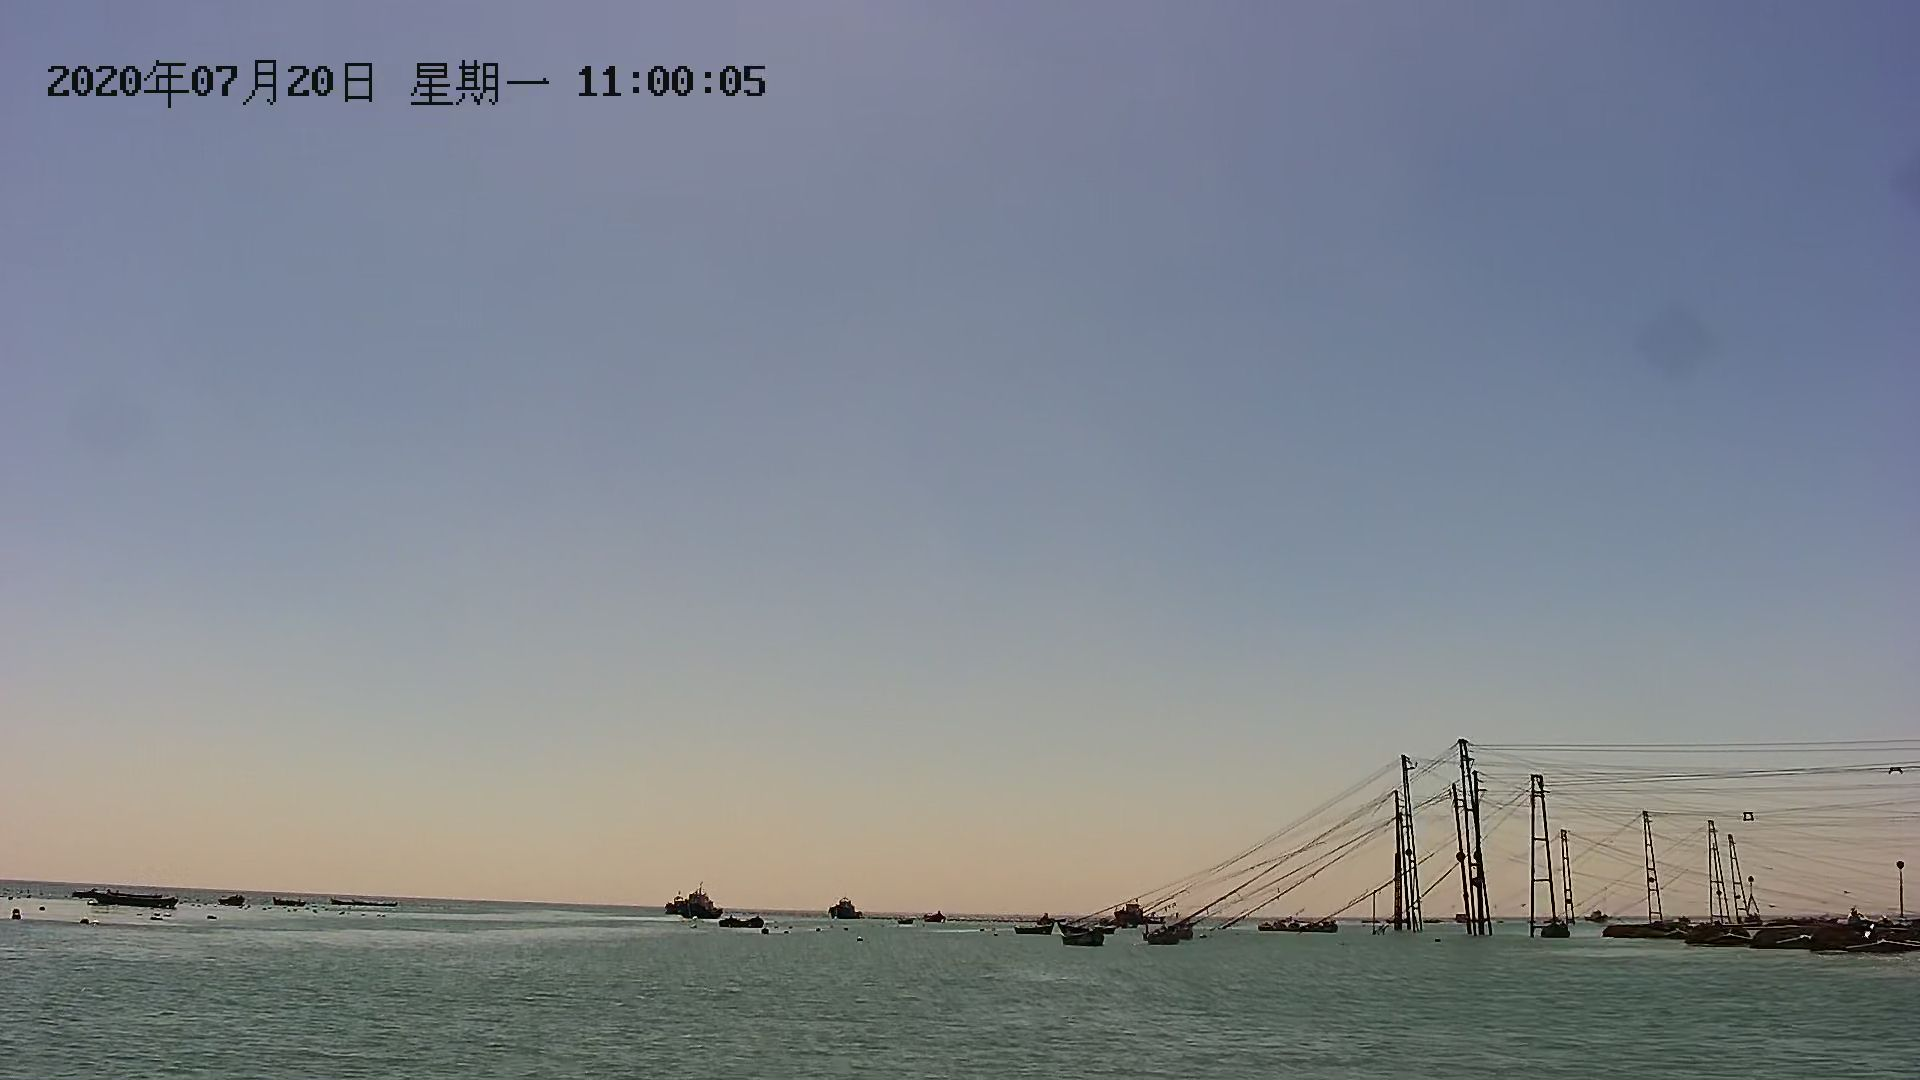boat: (95, 891, 175, 911), (1009, 922, 1052, 938), (1059, 932, 1106, 945)
mast: (1444, 736, 1497, 938), (1390, 754, 1429, 939), (1524, 771, 1563, 934), (1638, 810, 1671, 930), (1706, 818, 1738, 926)
rubbish: (1629, 920, 1905, 951)
ship: (665, 884, 717, 918)
